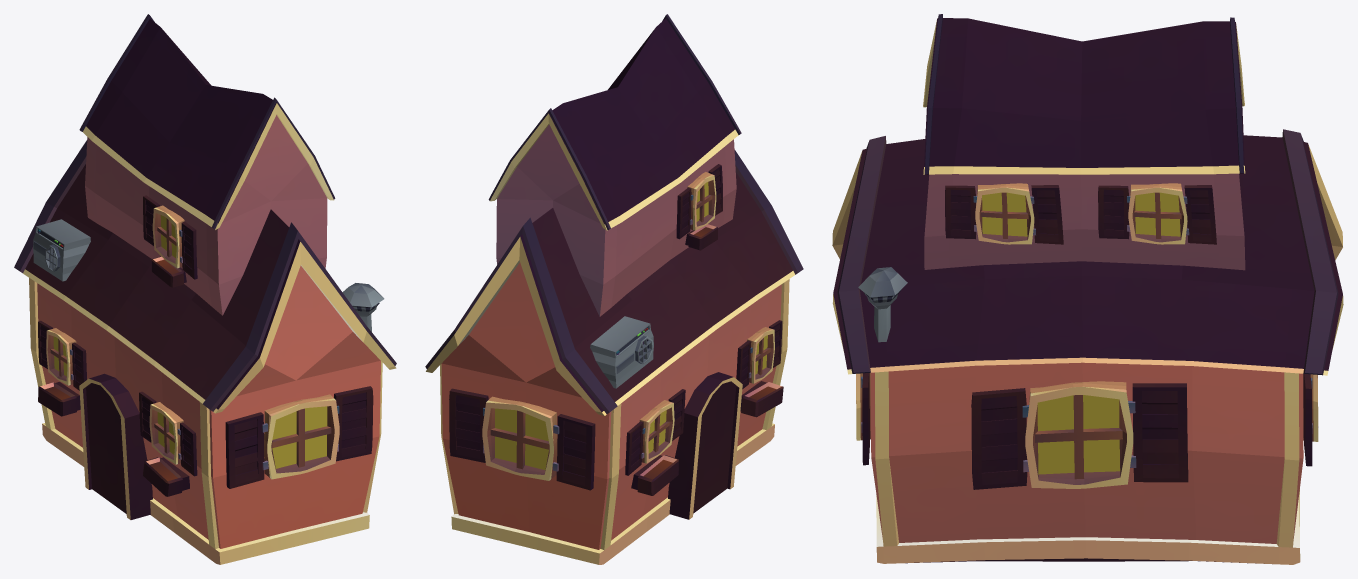
The model's file is House_NeoHouse02.fbx.
3 views of the same model, side by side, from view 1: azimuth 30°, elevation 25°; view 2: azimuth 150°, elevation 25°; view 3: azimuth 270°, elevation 25° (orthographic). The views are drawn at different scales.
Visible parts, largest first — view 1: Cube.025; view 2: Cube.025; view 3: Cube.025.
Boxes of the visible parts, left/top/right/bottom form: Cube.025: left=14, top=14, right=396, bottom=564; Cube.025: left=425, top=14, right=803, bottom=564; Cube.025: left=832, top=14, right=1343, bottom=564.
Bounding box in the file's own units: 281 × 541 × 489.
